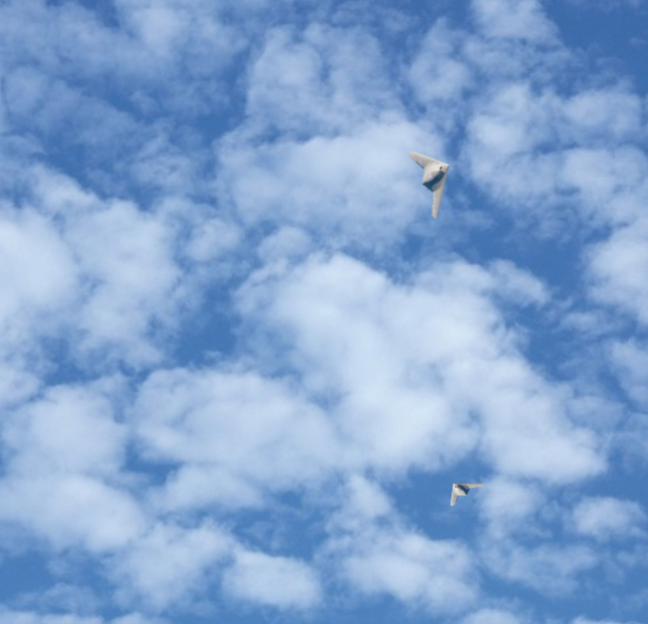military drone: (408, 149, 450, 219), (449, 482, 483, 506)
